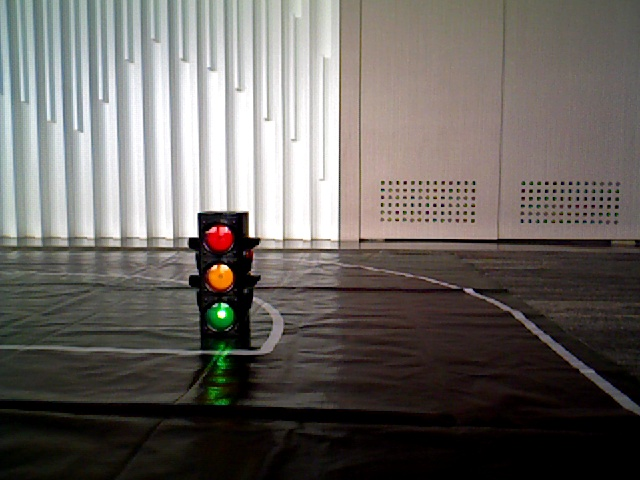green: (201, 218, 242, 334)
